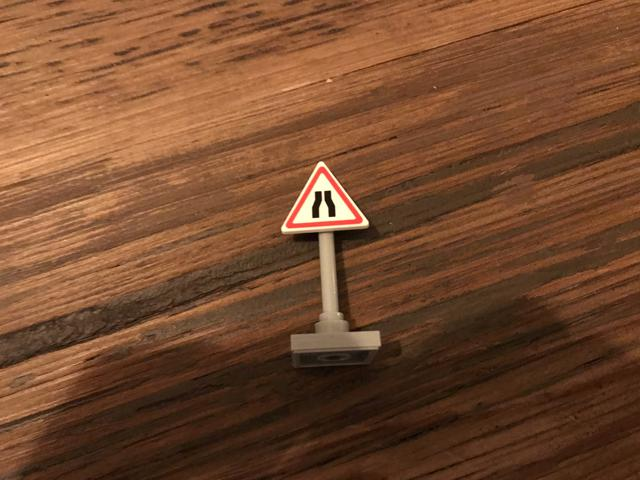verengte fahrbahn: (280, 160, 369, 238)
